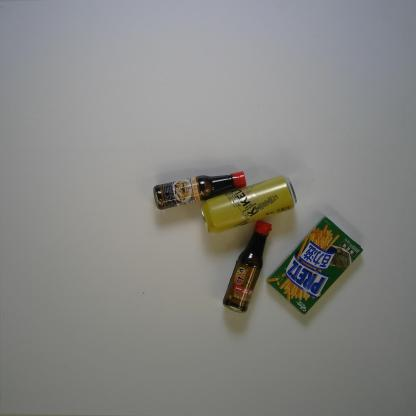Alcohol: (200, 173, 298, 234)
Dessert: (266, 214, 364, 315)
Seasoner: (221, 220, 273, 314), (152, 170, 247, 210)
